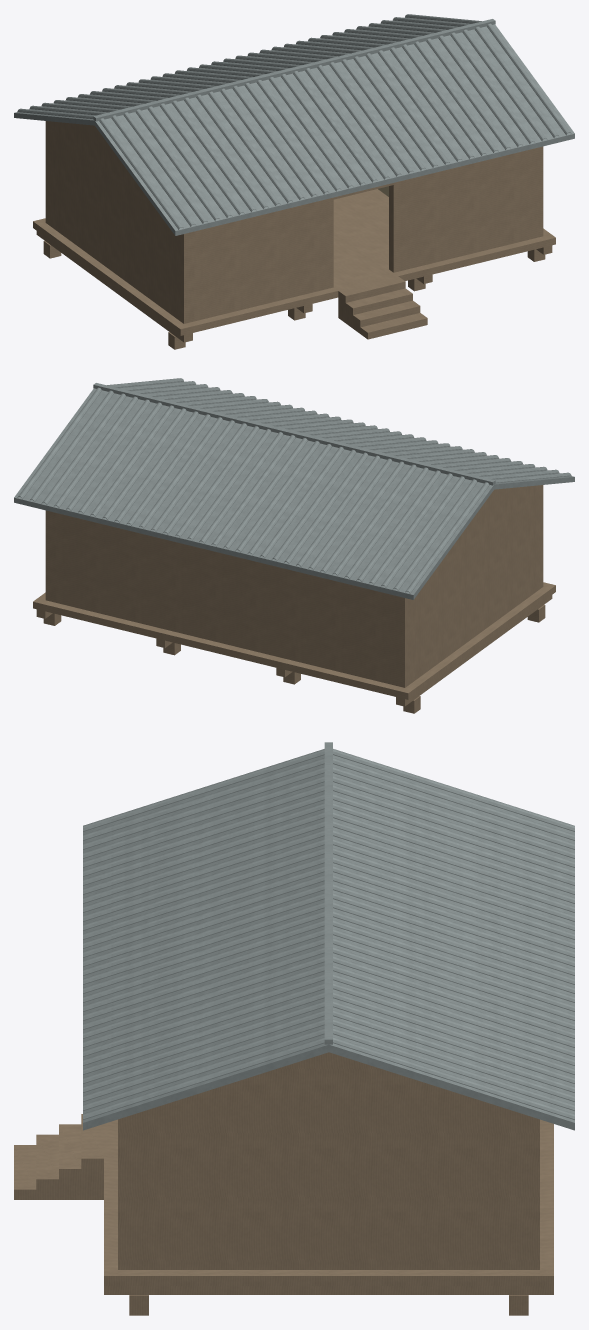
File: warehouse-A-organized-local-C2.glb
3 renders of one model, top to bottom at view 1: azimuth 30°, elevation 25°; view 2: azimuth 150°, elevation 25°; view 3: azimuth 270°, elevation 25°, orthographic. The views are drawn at different scales.
Parts seen in each view (by area): view 1: A_roofbed_-1, A_frontwall_-1, A_frontwall_1, A_sidewall_-1, A_floor, A_roofbed_1, A_ridge, A_gable_-1, A_step_3, A_step_2, A_step_1, A_step_0 (+35 smaller); view 2: A_roofbed_1, A_backwall, A_sidewall_-1, A_floor, A_roofbed_-1, A_ridge, A_gable_-1, A_cover_1_20, A_cover_1_0, A_cover_1_9, A_cover_1_13, A_cover_1_15 (+30 smaller); view 3: A_sidewall_1, A_roofbed_1, A_roofbed_-1, A_gable_1, A_floor, A_joist_3, A_ridge, A_backwall, A_frontwall_1, A_step_2, A_step_3, A_cover_1_0 (+67 smaller).
Part boxes in pixels (x1,y1,x2,y2): A_roofbed_-1: [94, 24, 574, 235]; A_frontwall_-1: [179, 197, 333, 323]; A_frontwall_1: [389, 146, 543, 272]; A_sidewall_-1: [50, 130, 179, 320]; A_floor: [33, 189, 555, 335]; A_roofbed_1: [14, 17, 471, 125]; A_ridge: [93, 19, 495, 121]; A_gable_-1: [45, 121, 152, 204]; A_step_3: [338, 276, 405, 322]; A_step_2: [345, 288, 412, 328]; A_step_1: [353, 300, 420, 333]; A_step_0: [360, 313, 427, 339]; A_roofbed_1: [14, 388, 494, 599]; A_backwall: [45, 510, 409, 687]; A_sidewall_-1: [409, 494, 538, 684]; A_floor: [33, 582, 555, 699]; A_roofbed_-1: [117, 381, 574, 489]; A_ridge: [93, 383, 495, 485]; A_gable_-1: [436, 485, 538, 568]; A_cover_1_20: [162, 423, 247, 534]; A_cover_1_0: [405, 482, 489, 593]; A_cover_1_9: [296, 455, 380, 567]; A_cover_1_13: [247, 444, 332, 555]; A_cover_1_15: [223, 438, 307, 549]; A_sidewall_1: [132, 1123, 525, 1269]; A_roofbed_1: [329, 755, 574, 1130]; A_roofbed_-1: [83, 755, 328, 1130]; A_gable_1: [118, 1052, 539, 1123]; A_floor: [104, 1119, 553, 1285]; A_joist_3: [104, 1286, 553, 1294]; A_ridge: [324, 742, 332, 1044]; A_backwall: [525, 1123, 539, 1269]; A_frontwall_1: [118, 1123, 131, 1269]; A_step_2: [59, 1124, 81, 1199]; A_step_3: [81, 1114, 103, 1199]; A_cover_1_0: [333, 749, 574, 831].
Size of the model in its own units: 10 by 4.5 by 7.98.
Materials: 3 (2 with a texture image).
